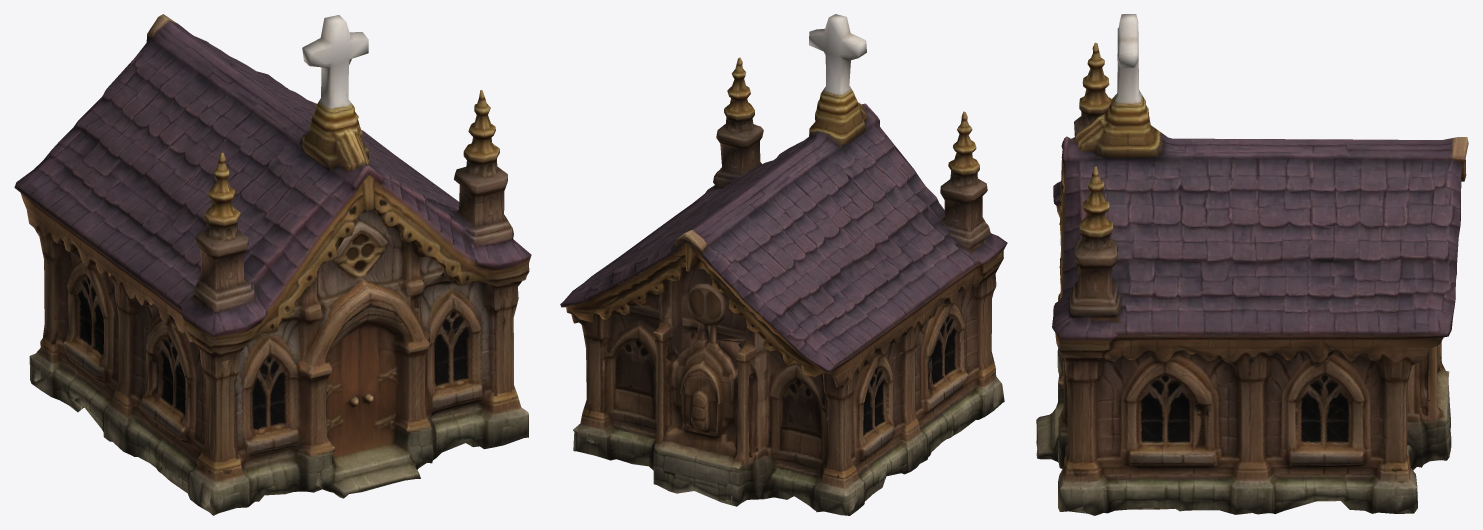
File: church.glb
3 views of the same model, side by side, from view 1: azimuth 30°, elevation 25°; view 2: azimuth 150°, elevation 25°; view 3: azimuth 270°, elevation 25° (orthographic). The views are drawn at different scales.
Visible parts, largest first — view 1: lo; view 2: lo; view 3: lo.
Boxes of the visible parts, bbox=[...] form: lo: bbox=[14, 14, 531, 515]; lo: bbox=[560, 14, 1007, 515]; lo: bbox=[1036, 14, 1468, 515].
Size of the model in its own units: 0.7688 by 0.9862 by 0.9092.
1 material, 1 textured.
